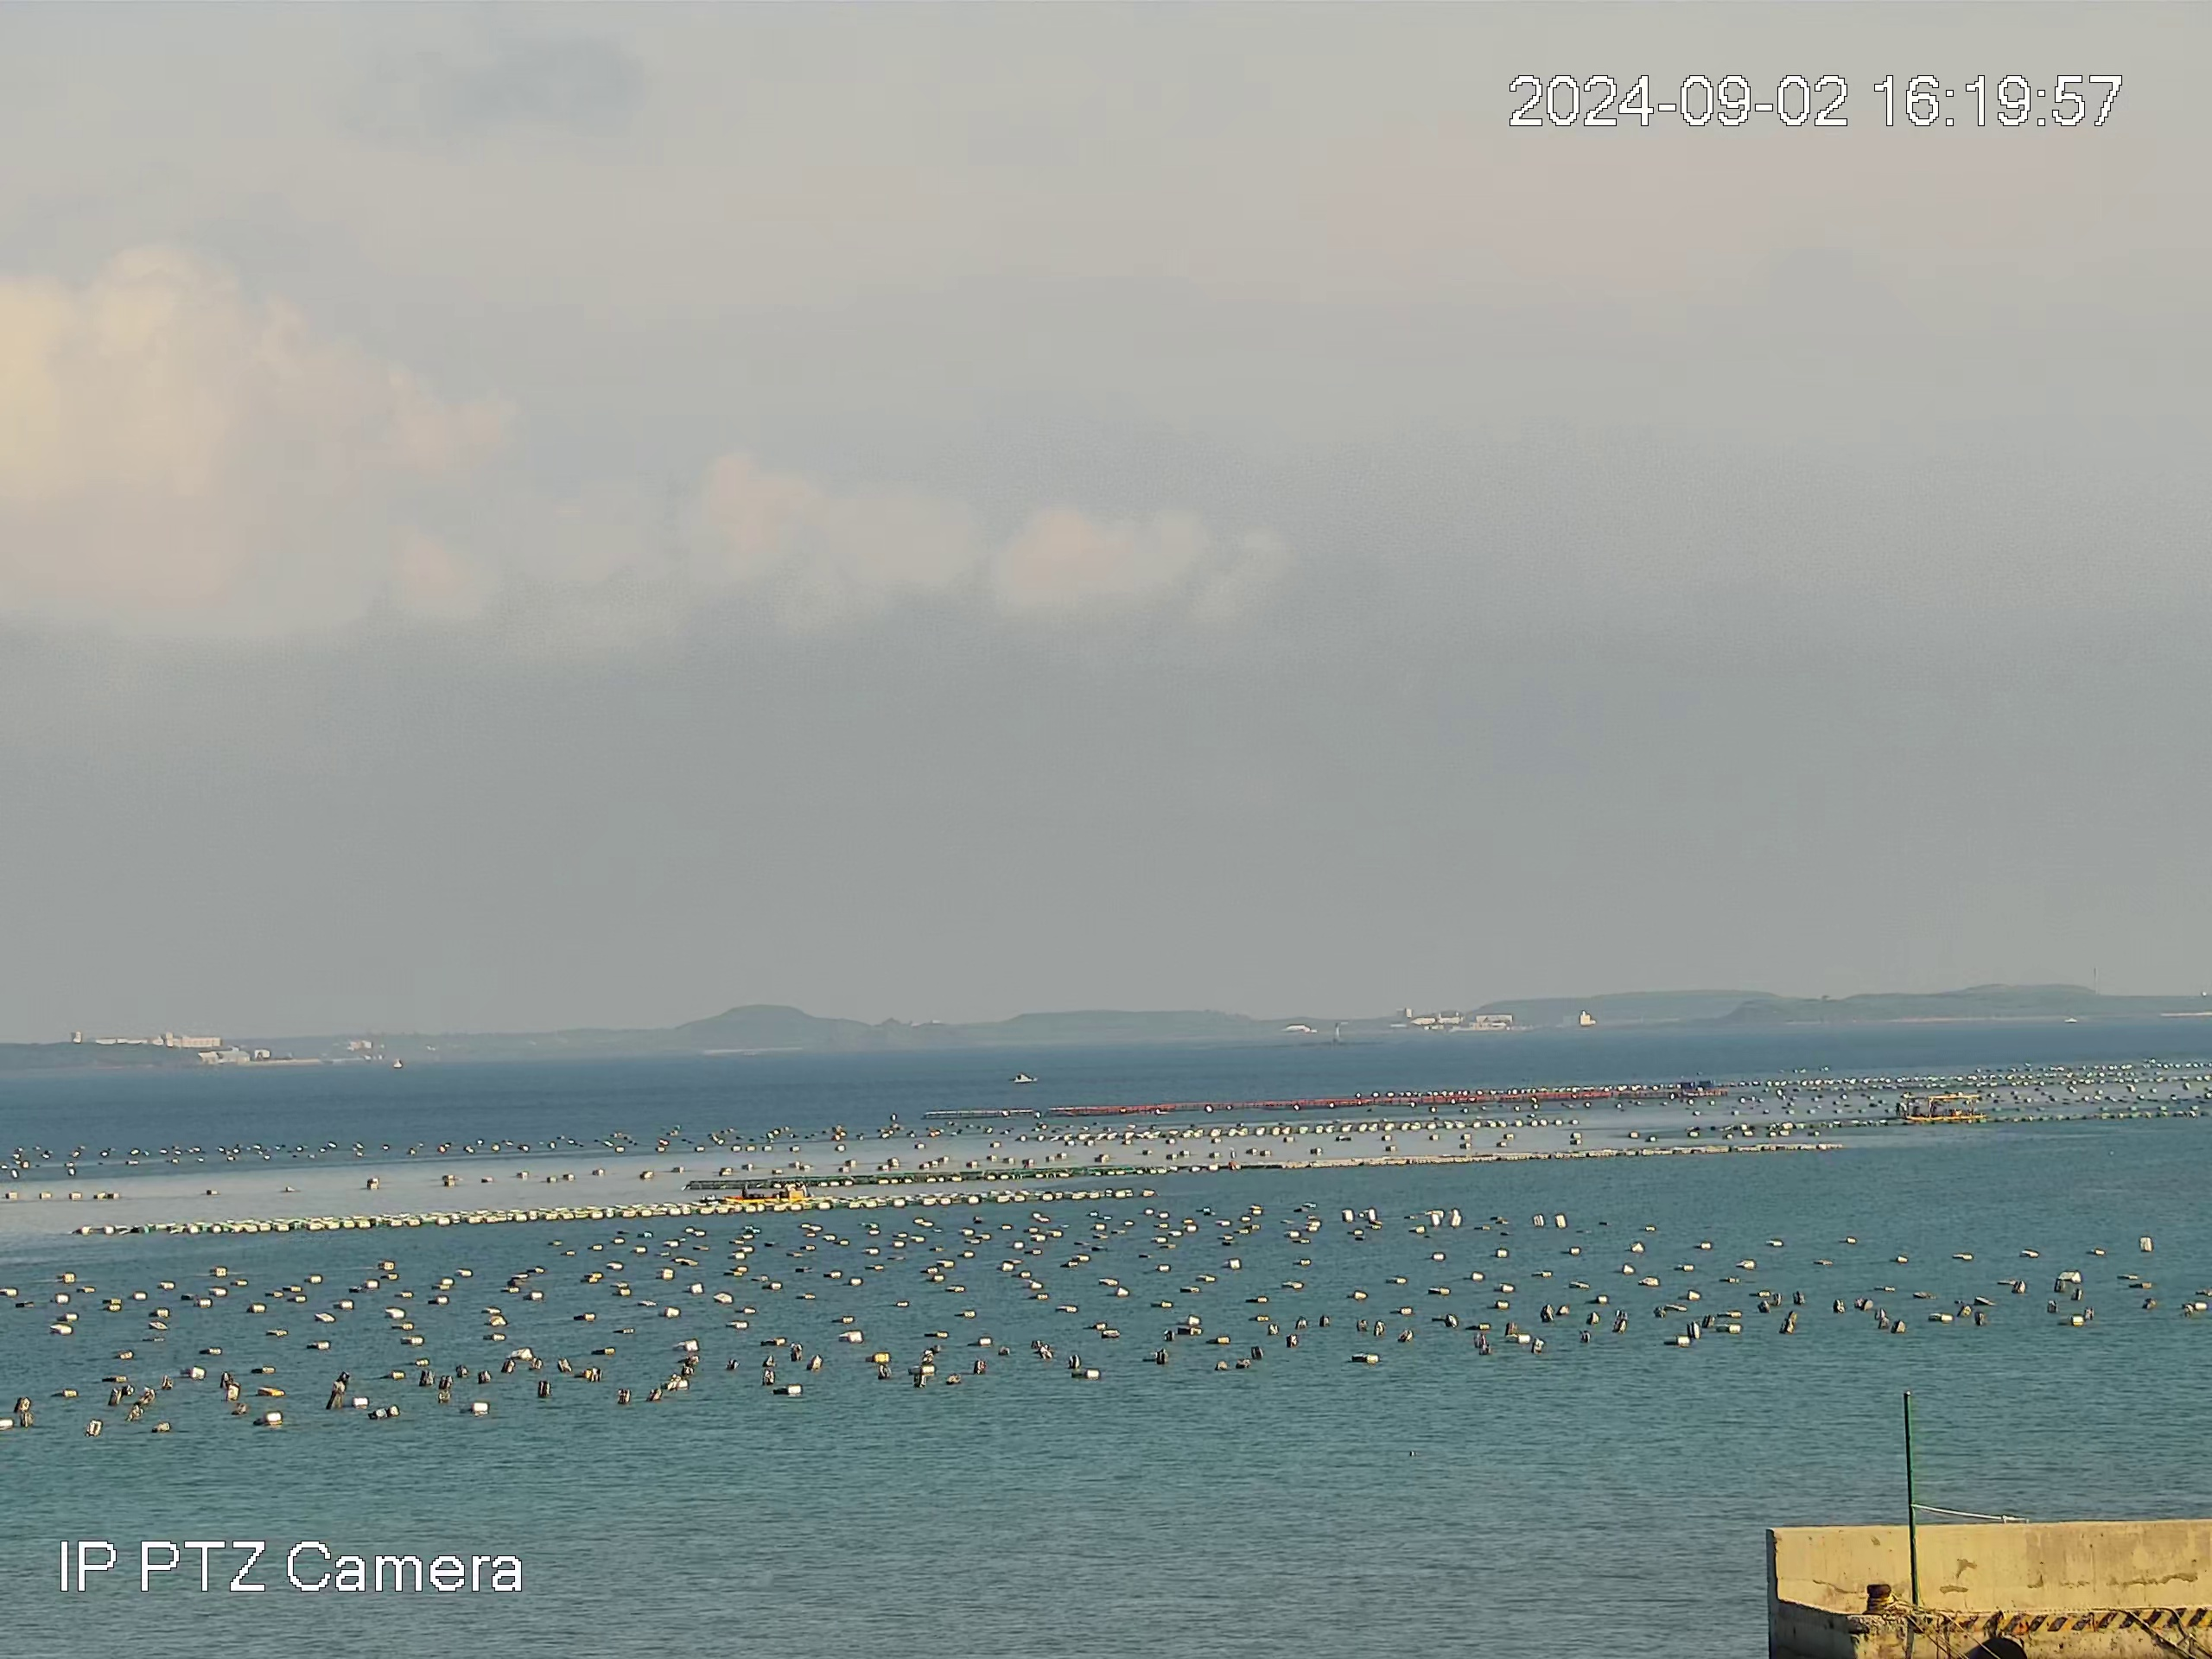boat: (1900, 1091, 1987, 1126), (723, 1180, 812, 1206), (1012, 1072, 1036, 1084)
